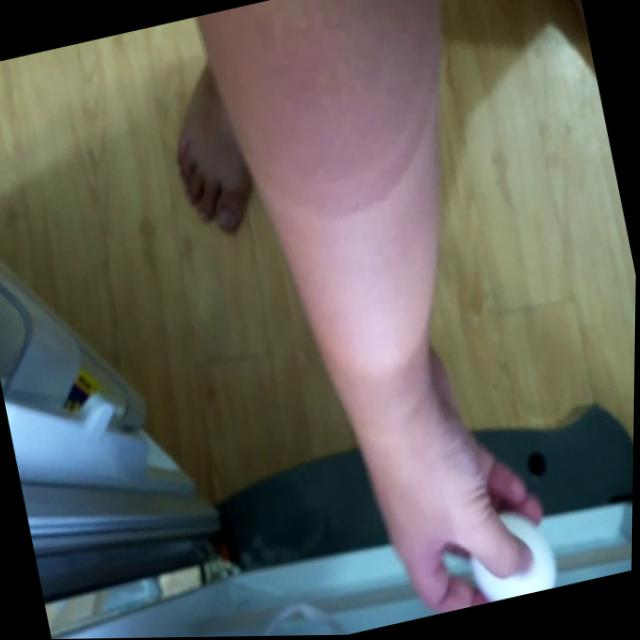egg: (465, 498, 568, 606)
